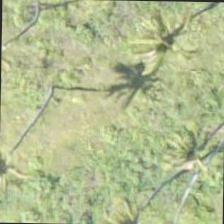Kelapa_Sawit: (132, 104, 224, 197), (107, 0, 199, 82), (81, 172, 174, 223)
